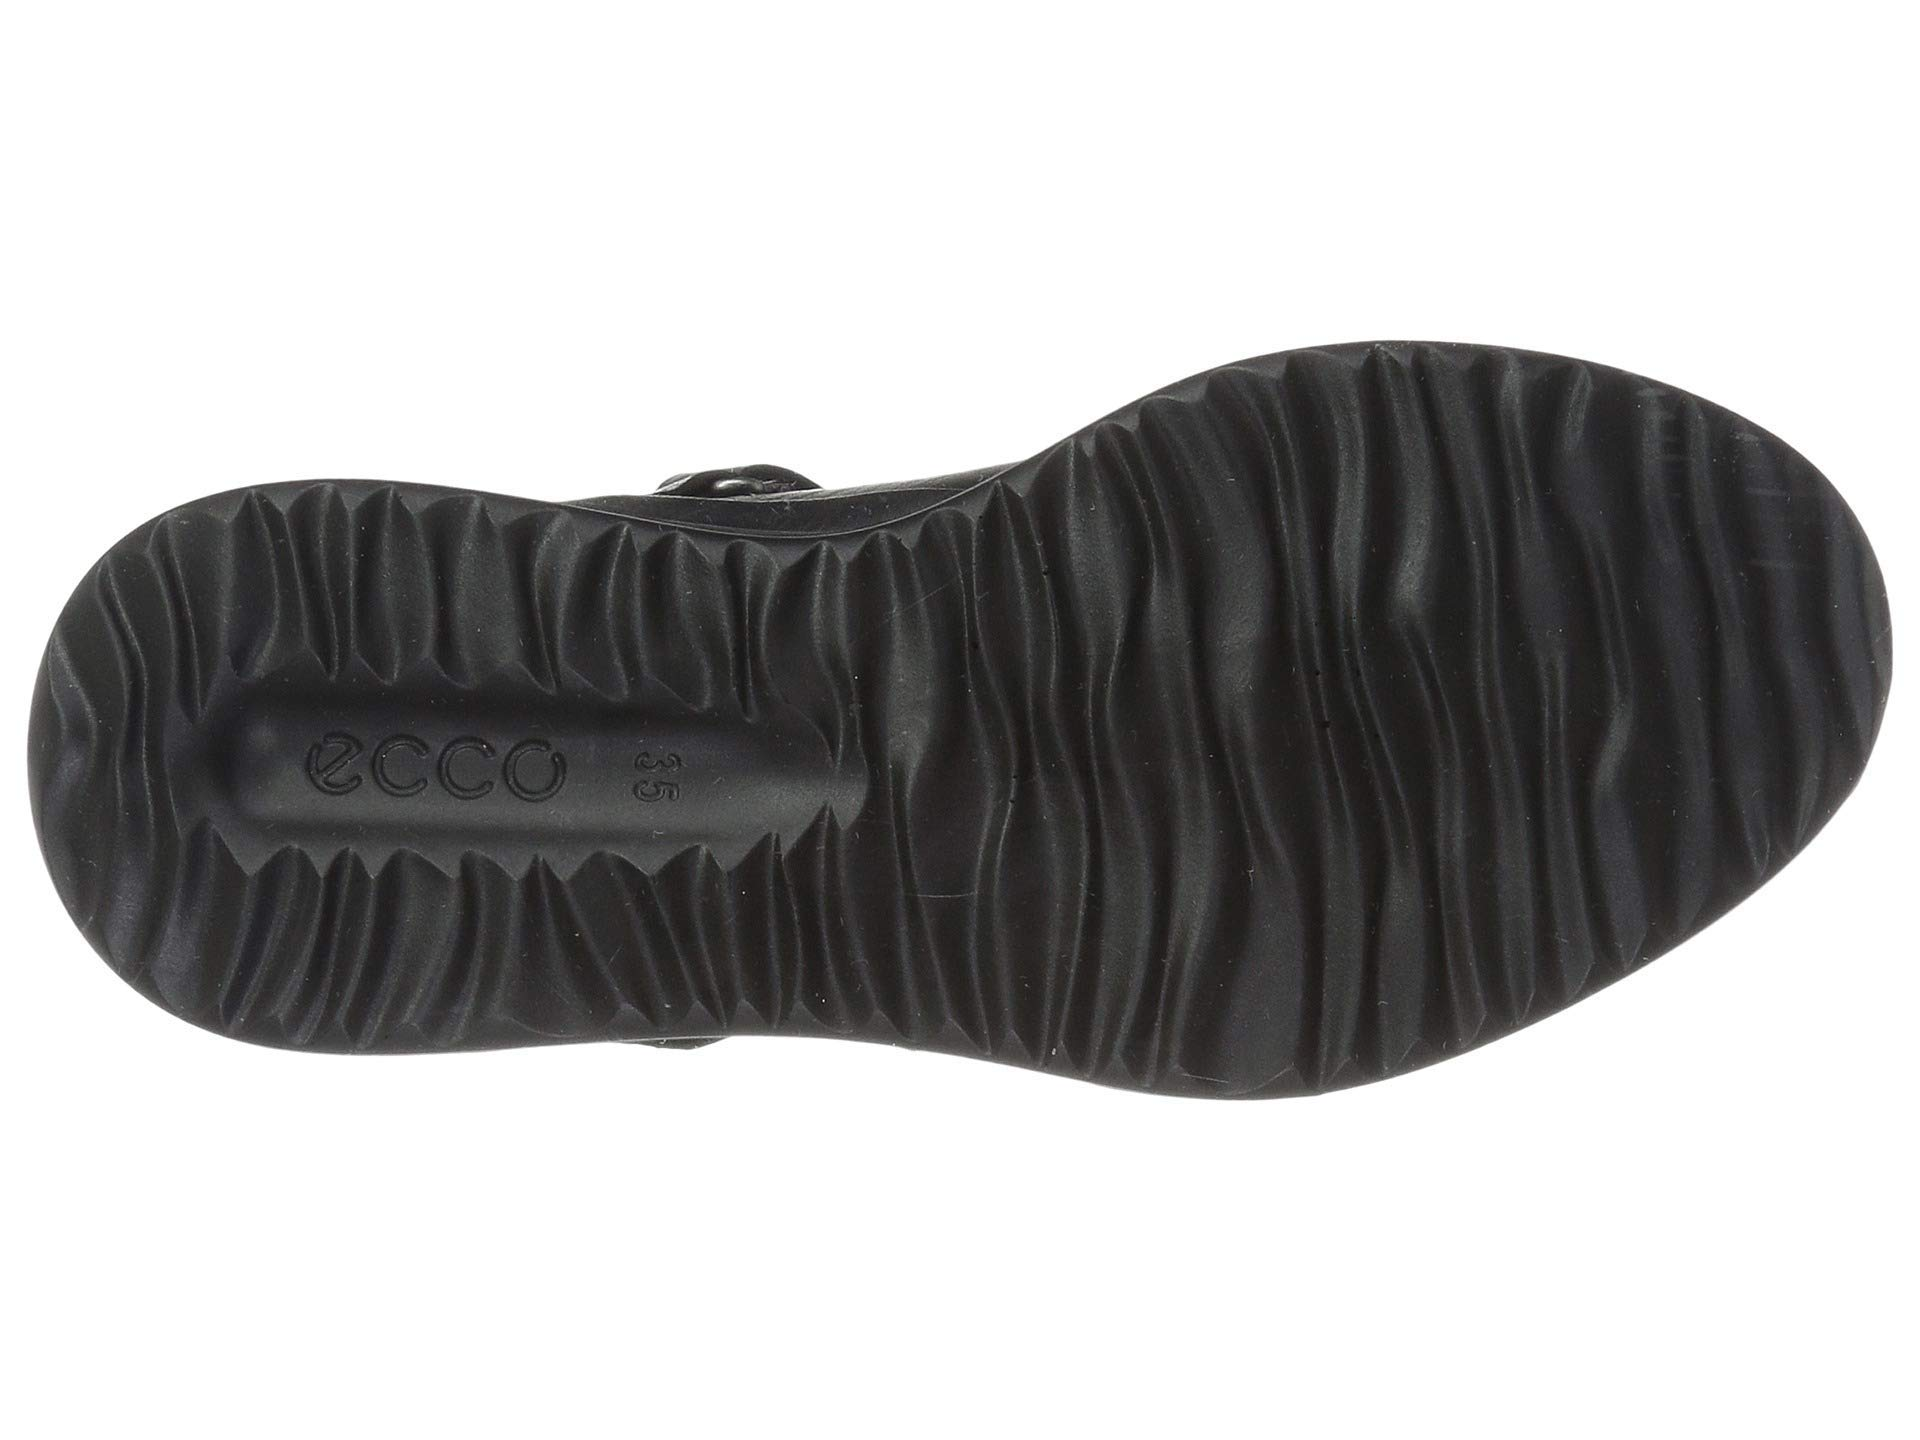circle: (413, 690, 612, 853)
text: (413, 690, 612, 853), (269, 717, 454, 838), (623, 746, 697, 824)
